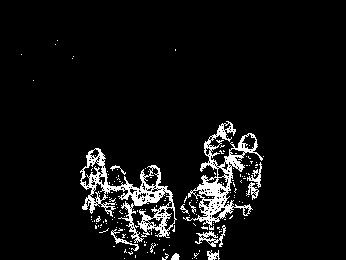person: (181, 161, 232, 260), (95, 164, 141, 260), (131, 163, 176, 260), (222, 131, 263, 220), (77, 144, 115, 235), (202, 119, 243, 193)
